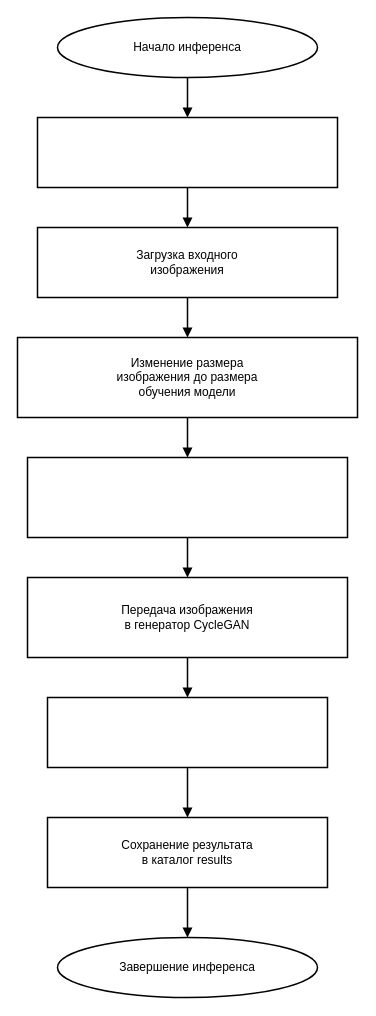
Some shapes in this 376 by 1016 pixel diagram are drawn without their labels. The shapes that lost their labels are listed below. From the top down, each one's box as (x1, y1, x2, y2) in pixels, then its label:
(36, 116, 338, 188): Загрузка обученной модели
(26, 456, 348, 538): Преобразование изображения в тензор и нормализация
(46, 696, 328, 768): Получение стилизованного изображения
